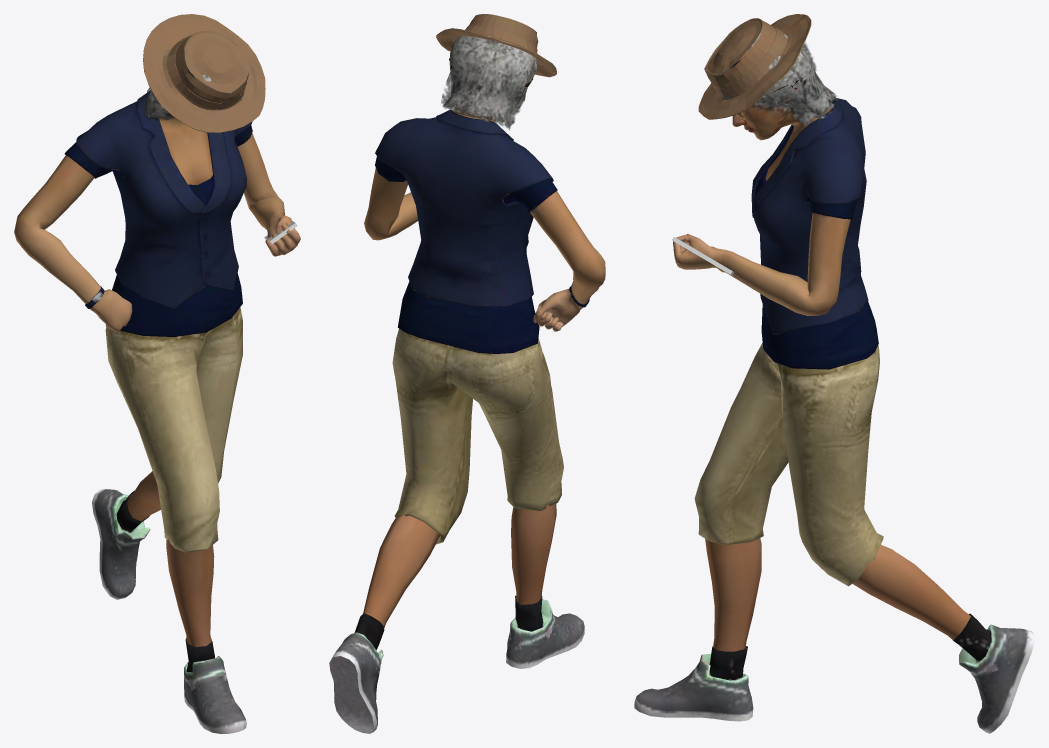
The picture shows the model from 3 angles, left to right: view 1: azimuth 30°, elevation 25°; view 2: azimuth 150°, elevation 25°; view 3: azimuth 270°, elevation 25°; orthographic projection. The views are drawn at different scales.
Parts seen in each view (by area): view 1: p03714; view 2: p03714; view 3: p03714.
Part boxes in pixels (x1,y1,x2,y2): p03714: [14, 14, 300, 733]; p03714: [329, 14, 605, 733]; p03714: [634, 14, 1034, 733].
Bounding box in the file's own units: 0.6379 × 1.59 × 0.8239.
Materials: 1 (1 with a texture image).
